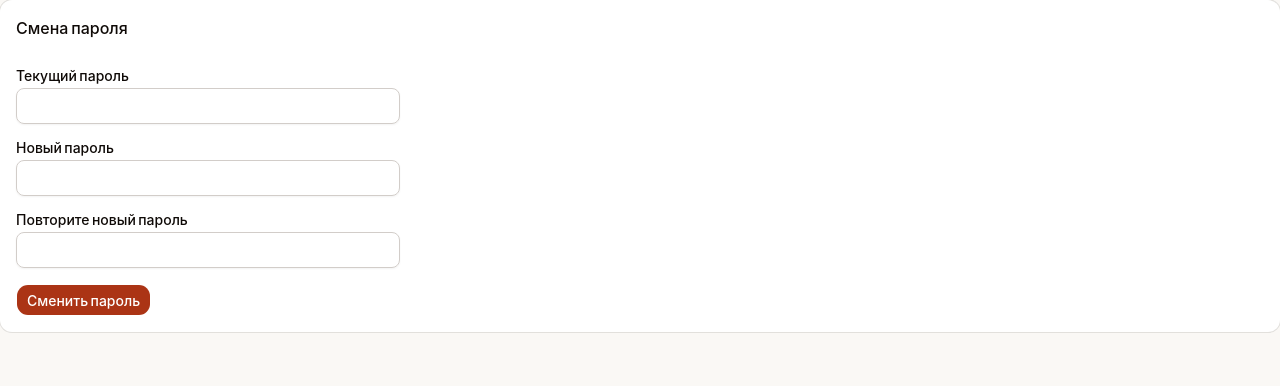
Test case: ChangePasswordSection › shows a field error when the current password is wrong
Type "wrongpw1" into the password field labelled "Текущий пароль" at (208, 106), box [16,88,400,124]
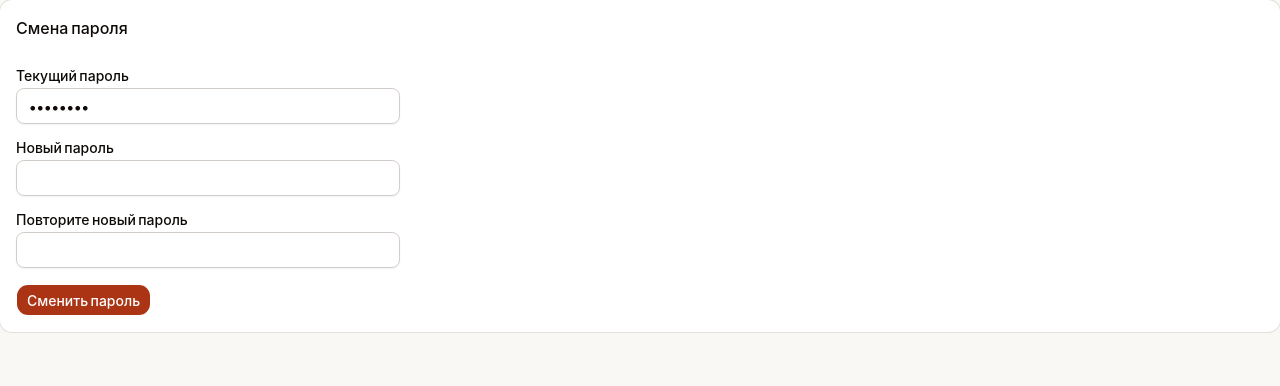
Type "newpw456" into the password field labelled "Новый пароль" at (208, 178), box [16,160,400,196]
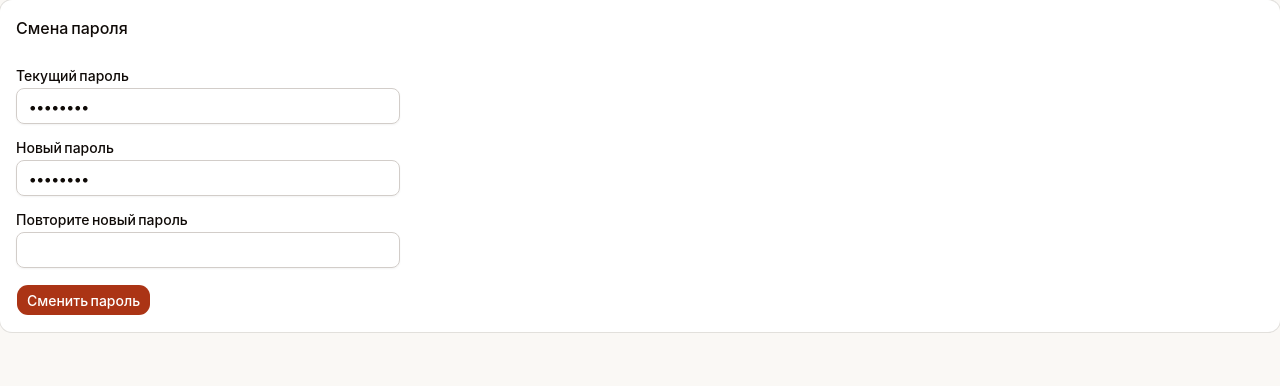
Type "newpw456" into the password field labelled "Повторите новый пароль" at (208, 250), box [16,232,400,268]
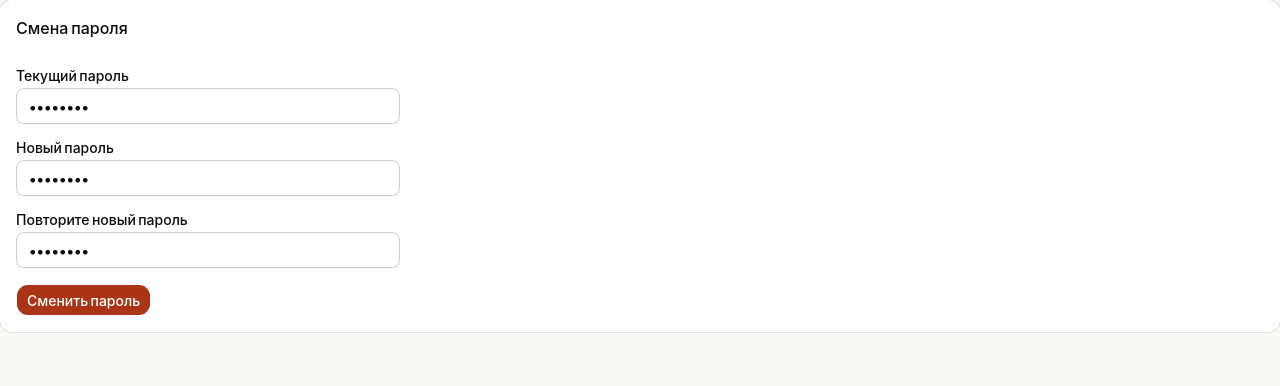
Click the button "Сменить пароль" at (84, 300), box [16,284,151,316]
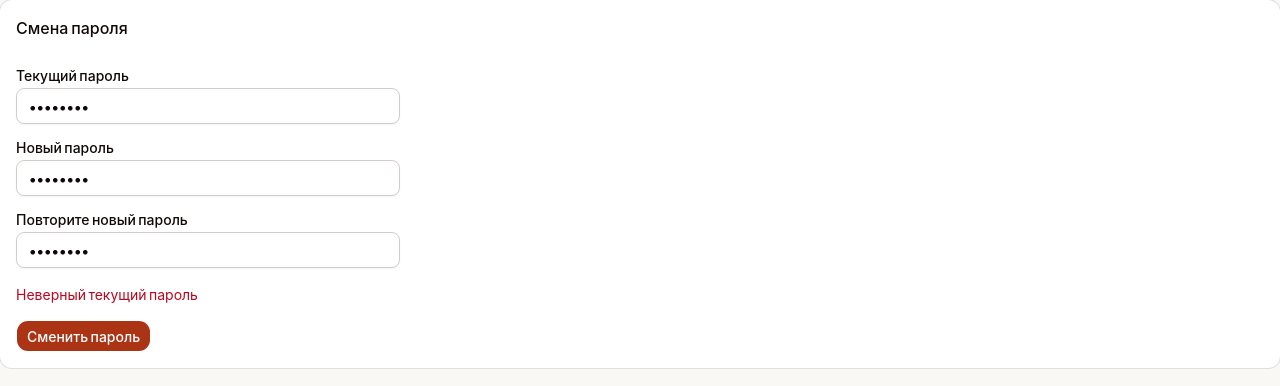
Now the text "Неверный текущий пароль" is shown, box [16,285,198,303]
